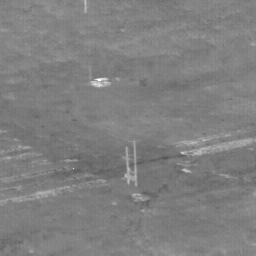aircraft: (100, 78, 102, 80)
